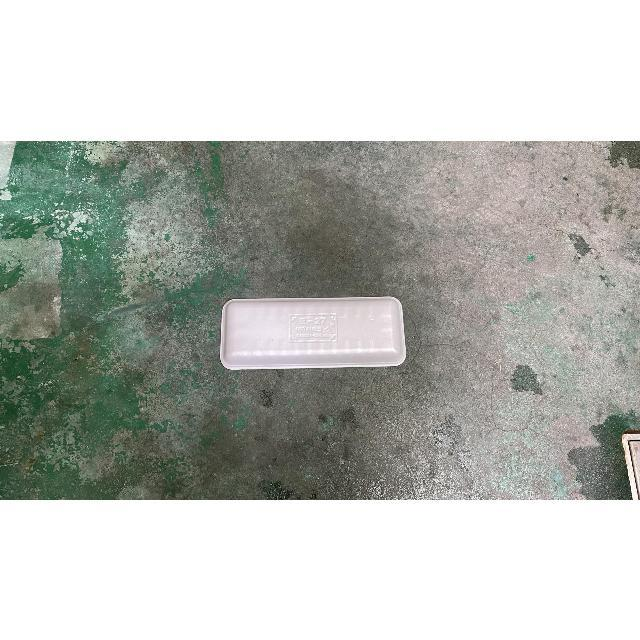Recipiente plastico: (220, 296, 406, 369)
